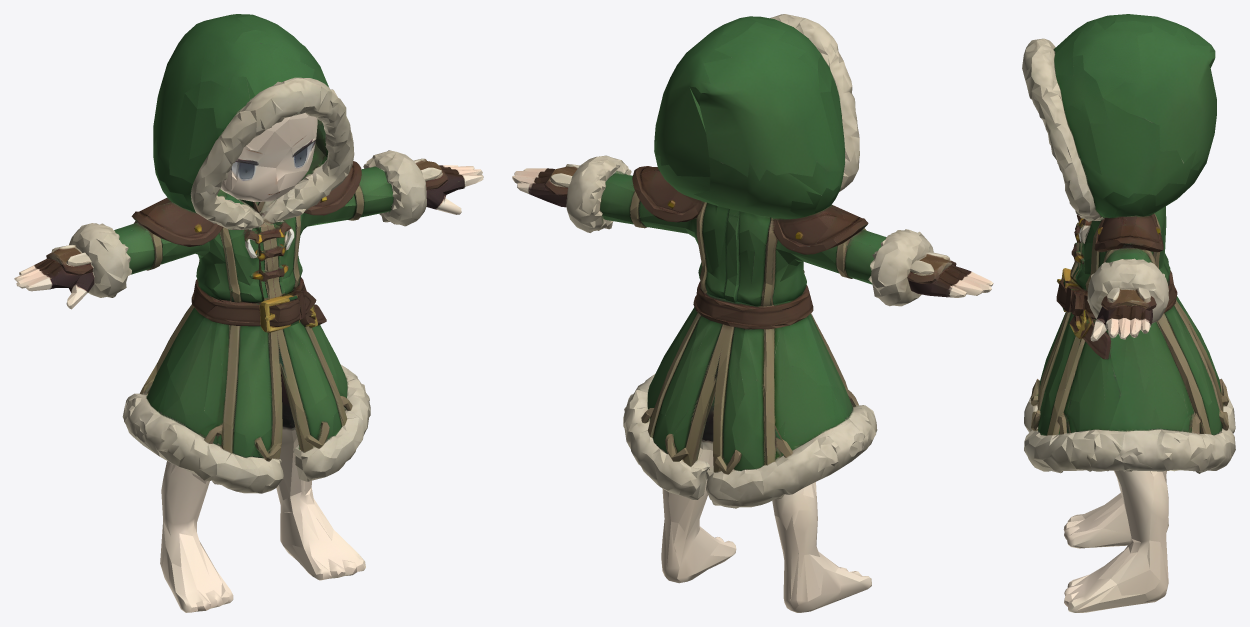
File: warden2_meshy.glb
The picture shows the model from 3 angles, left to right: view 1: azimuth 30°, elevation 25°; view 2: azimuth 150°, elevation 25°; view 3: azimuth 270°, elevation 25°; orthographic projection. The views are drawn at different scales.
Bounding box in the file's own units: 1.69 × 1.9 × 0.6685.
Materials: 1 (1 with a texture image).
